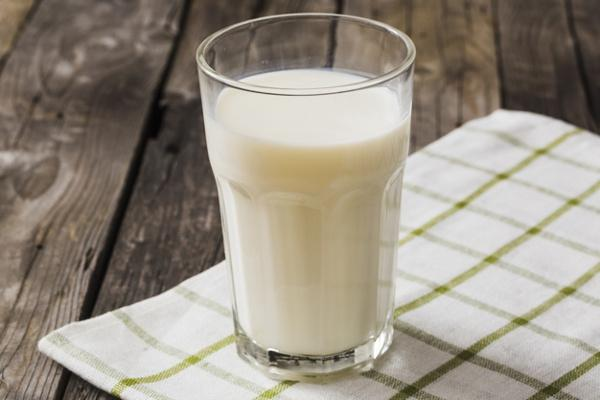produk_susu: (240, 31, 385, 361)
